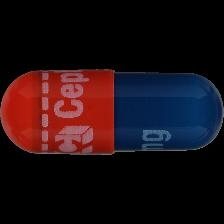63459-701: (0, 0, 224, 224)
